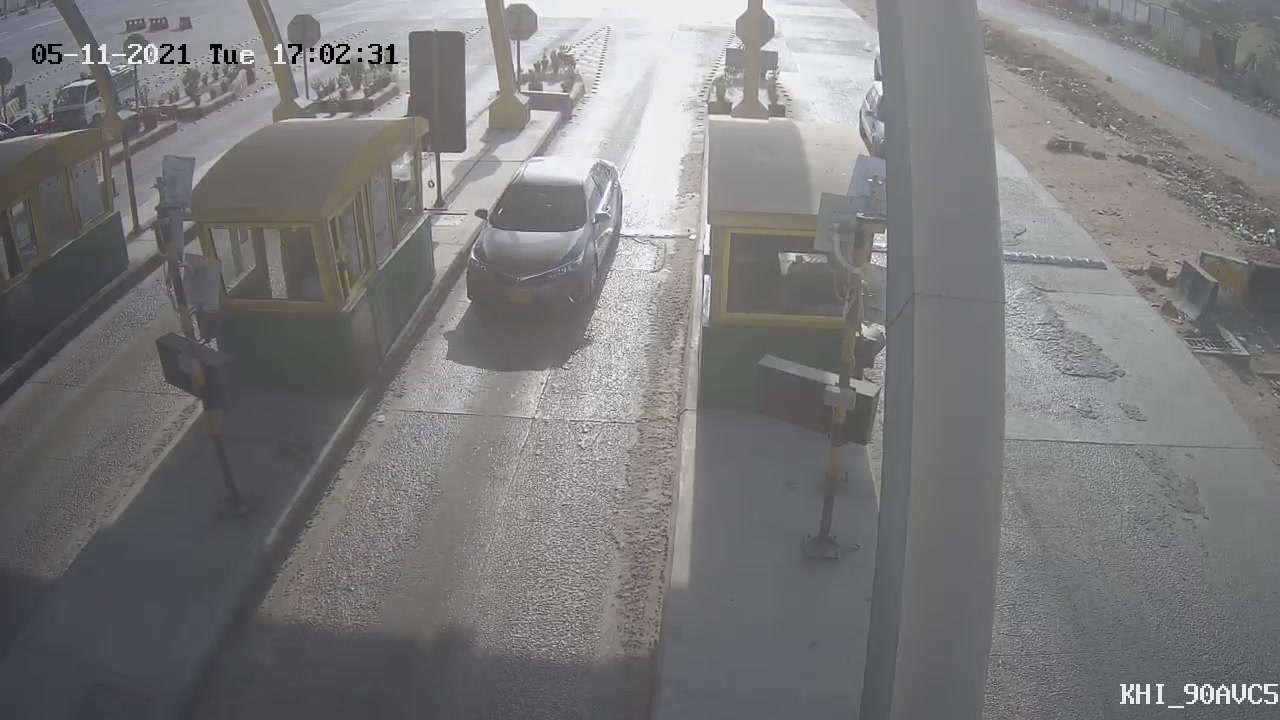F1: (443, 138, 642, 339)
